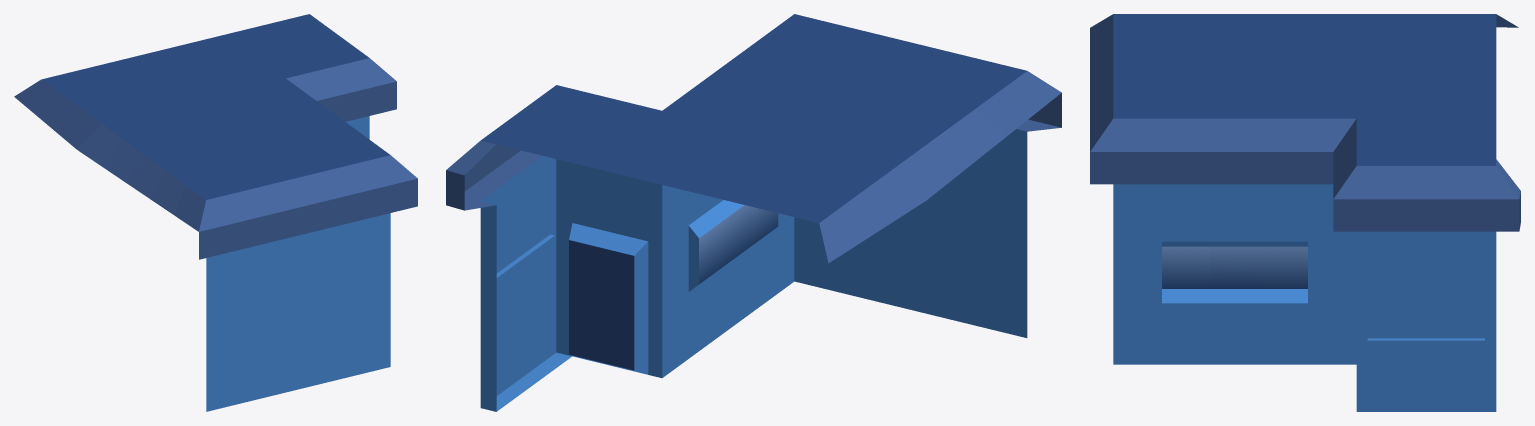
Rendered from blue_house.fbx.
The picture shows the model from 3 angles, left to right: view 1: azimuth 30°, elevation 25°; view 2: azimuth 150°, elevation 25°; view 3: azimuth 270°, elevation 25°; orthographic projection. The views are drawn at different scales.
Visible parts, largest first — view 1: blue_house; view 2: blue_house; view 3: blue_house.
Boxes of the visible parts, x1,y1,x2,y2 form: blue_house: (14, 14, 417, 411); blue_house: (446, 14, 1061, 411); blue_house: (1090, 14, 1520, 411).
Bounding box in the file's own units: 1317 × 860 × 1365.
Materials: 1 (1 with a texture image).
